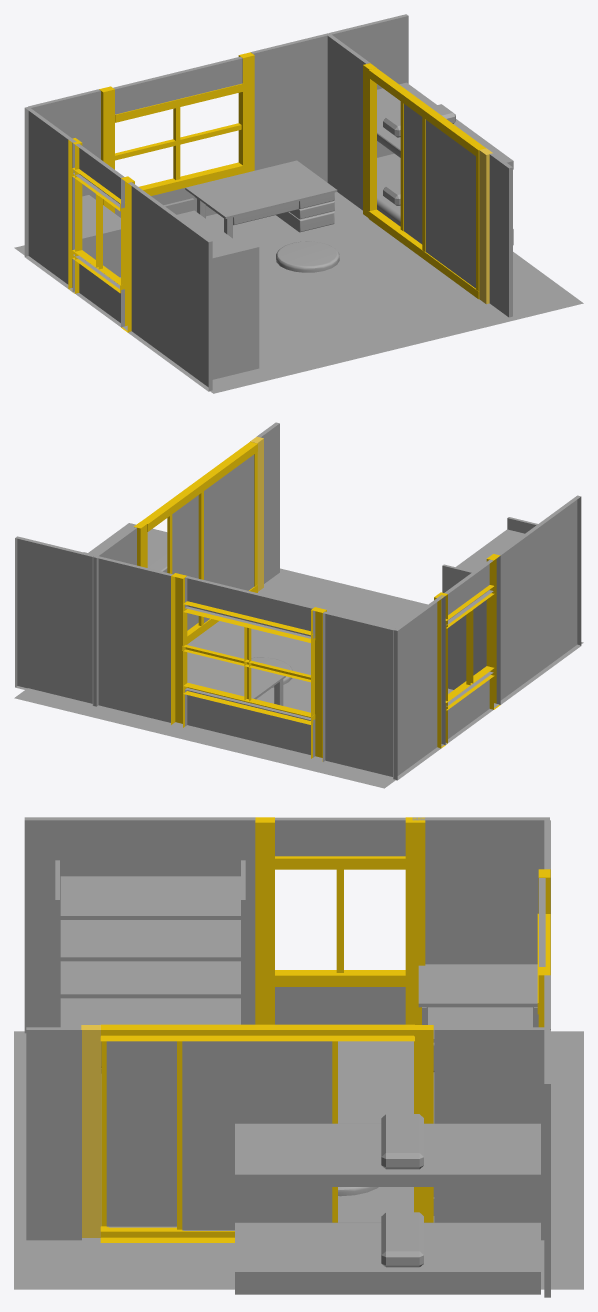
File: Room.fbx
3 views of the same model, one above another, from view 1: azimuth 30°, elevation 25°; view 2: azimuth 150°, elevation 25°; view 3: azimuth 270°, elevation 25° (orthographic). The views are drawn at different scales.
Visible parts, largest first — view 1: Walls, floor, PaperDoor, PaperDoorFrame, Shelf1, Table1, Window1, Window3, Cabinet1, Mattress2, Mat, Mattress1 (+1 smaller); view 2: Walls, floor, Window1, PaperDoor, PaperDoorFrame, Window3, Shelf1, Table1, Mattress2; view 3: Walls, PaperDoor, floor, Shelf1, Mattress1, Mattress2, PaperDoorFrame, Window3, Cabinet1, Pillow_up, Pillow_down, Window1.
Boxes of the visible parts, x1=… form: Walls: x1=24, y1=14, x2=512, y2=391; floor: x1=14, y1=192, x2=583, y2=393; PaperDoor: x1=404, y1=104, x2=475, y2=288; PaperDoorFrame: x1=363, y1=63, x2=492, y2=304; Shelf1: x1=164, y1=198, x2=259, y2=379; Table1: x1=185, y1=160, x2=337, y2=238; Window1: x1=99, y1=52, x2=254, y2=213; Window3: x1=68, y1=138, x2=134, y2=332; Cabinet1: x1=82, y1=195, x2=120, y2=277; Mattress2: x1=377, y1=82, x2=513, y2=169; Mat: x1=276, y1=241, x2=339, y2=272; Mattress1: x1=377, y1=153, x2=513, y2=245; Walls: x1=15, y1=422, x2=581, y2=780; floor: x1=14, y1=568, x2=583, y2=788; Window1: x1=171, y1=573, x2=326, y2=761; PaperDoor: x1=172, y1=454, x2=254, y2=630; PaperDoorFrame: x1=134, y1=436, x2=263, y2=643; Window3: x1=434, y1=554, x2=500, y2=748; Shelf1: x1=442, y1=517, x2=537, y2=689; Table1: x1=187, y1=652, x2=285, y2=705; Mattress2: x1=88, y1=523, x2=167, y2=572; Walls: x1=24, y1=817, x2=550, y2=1297; PaperDoor: x1=106, y1=1041, x2=332, y2=1230; floor: x1=14, y1=1031, x2=583, y2=1289; Shelf1: x1=55, y1=860, x2=245, y2=1073; Mattress1: x1=235, y1=1222, x2=540, y2=1294; Mattress2: x1=235, y1=1123, x2=540, y2=1186; PaperDoorFrame: x1=81, y1=1024, x2=433, y2=1242; Window3: x1=255, y1=817, x2=425, y2=1024; Cabinet1: x1=418, y1=964, x2=538, y2=1071; Pillow_up: x1=381, y1=1114, x2=423, y2=1169; Pillow_down: x1=381, y1=1212, x2=423, y2=1267; Window1: x1=537, y1=869, x2=550, y2=1027.
Size of the model in its own units: 21.68 by 8.09 by 19.56.
